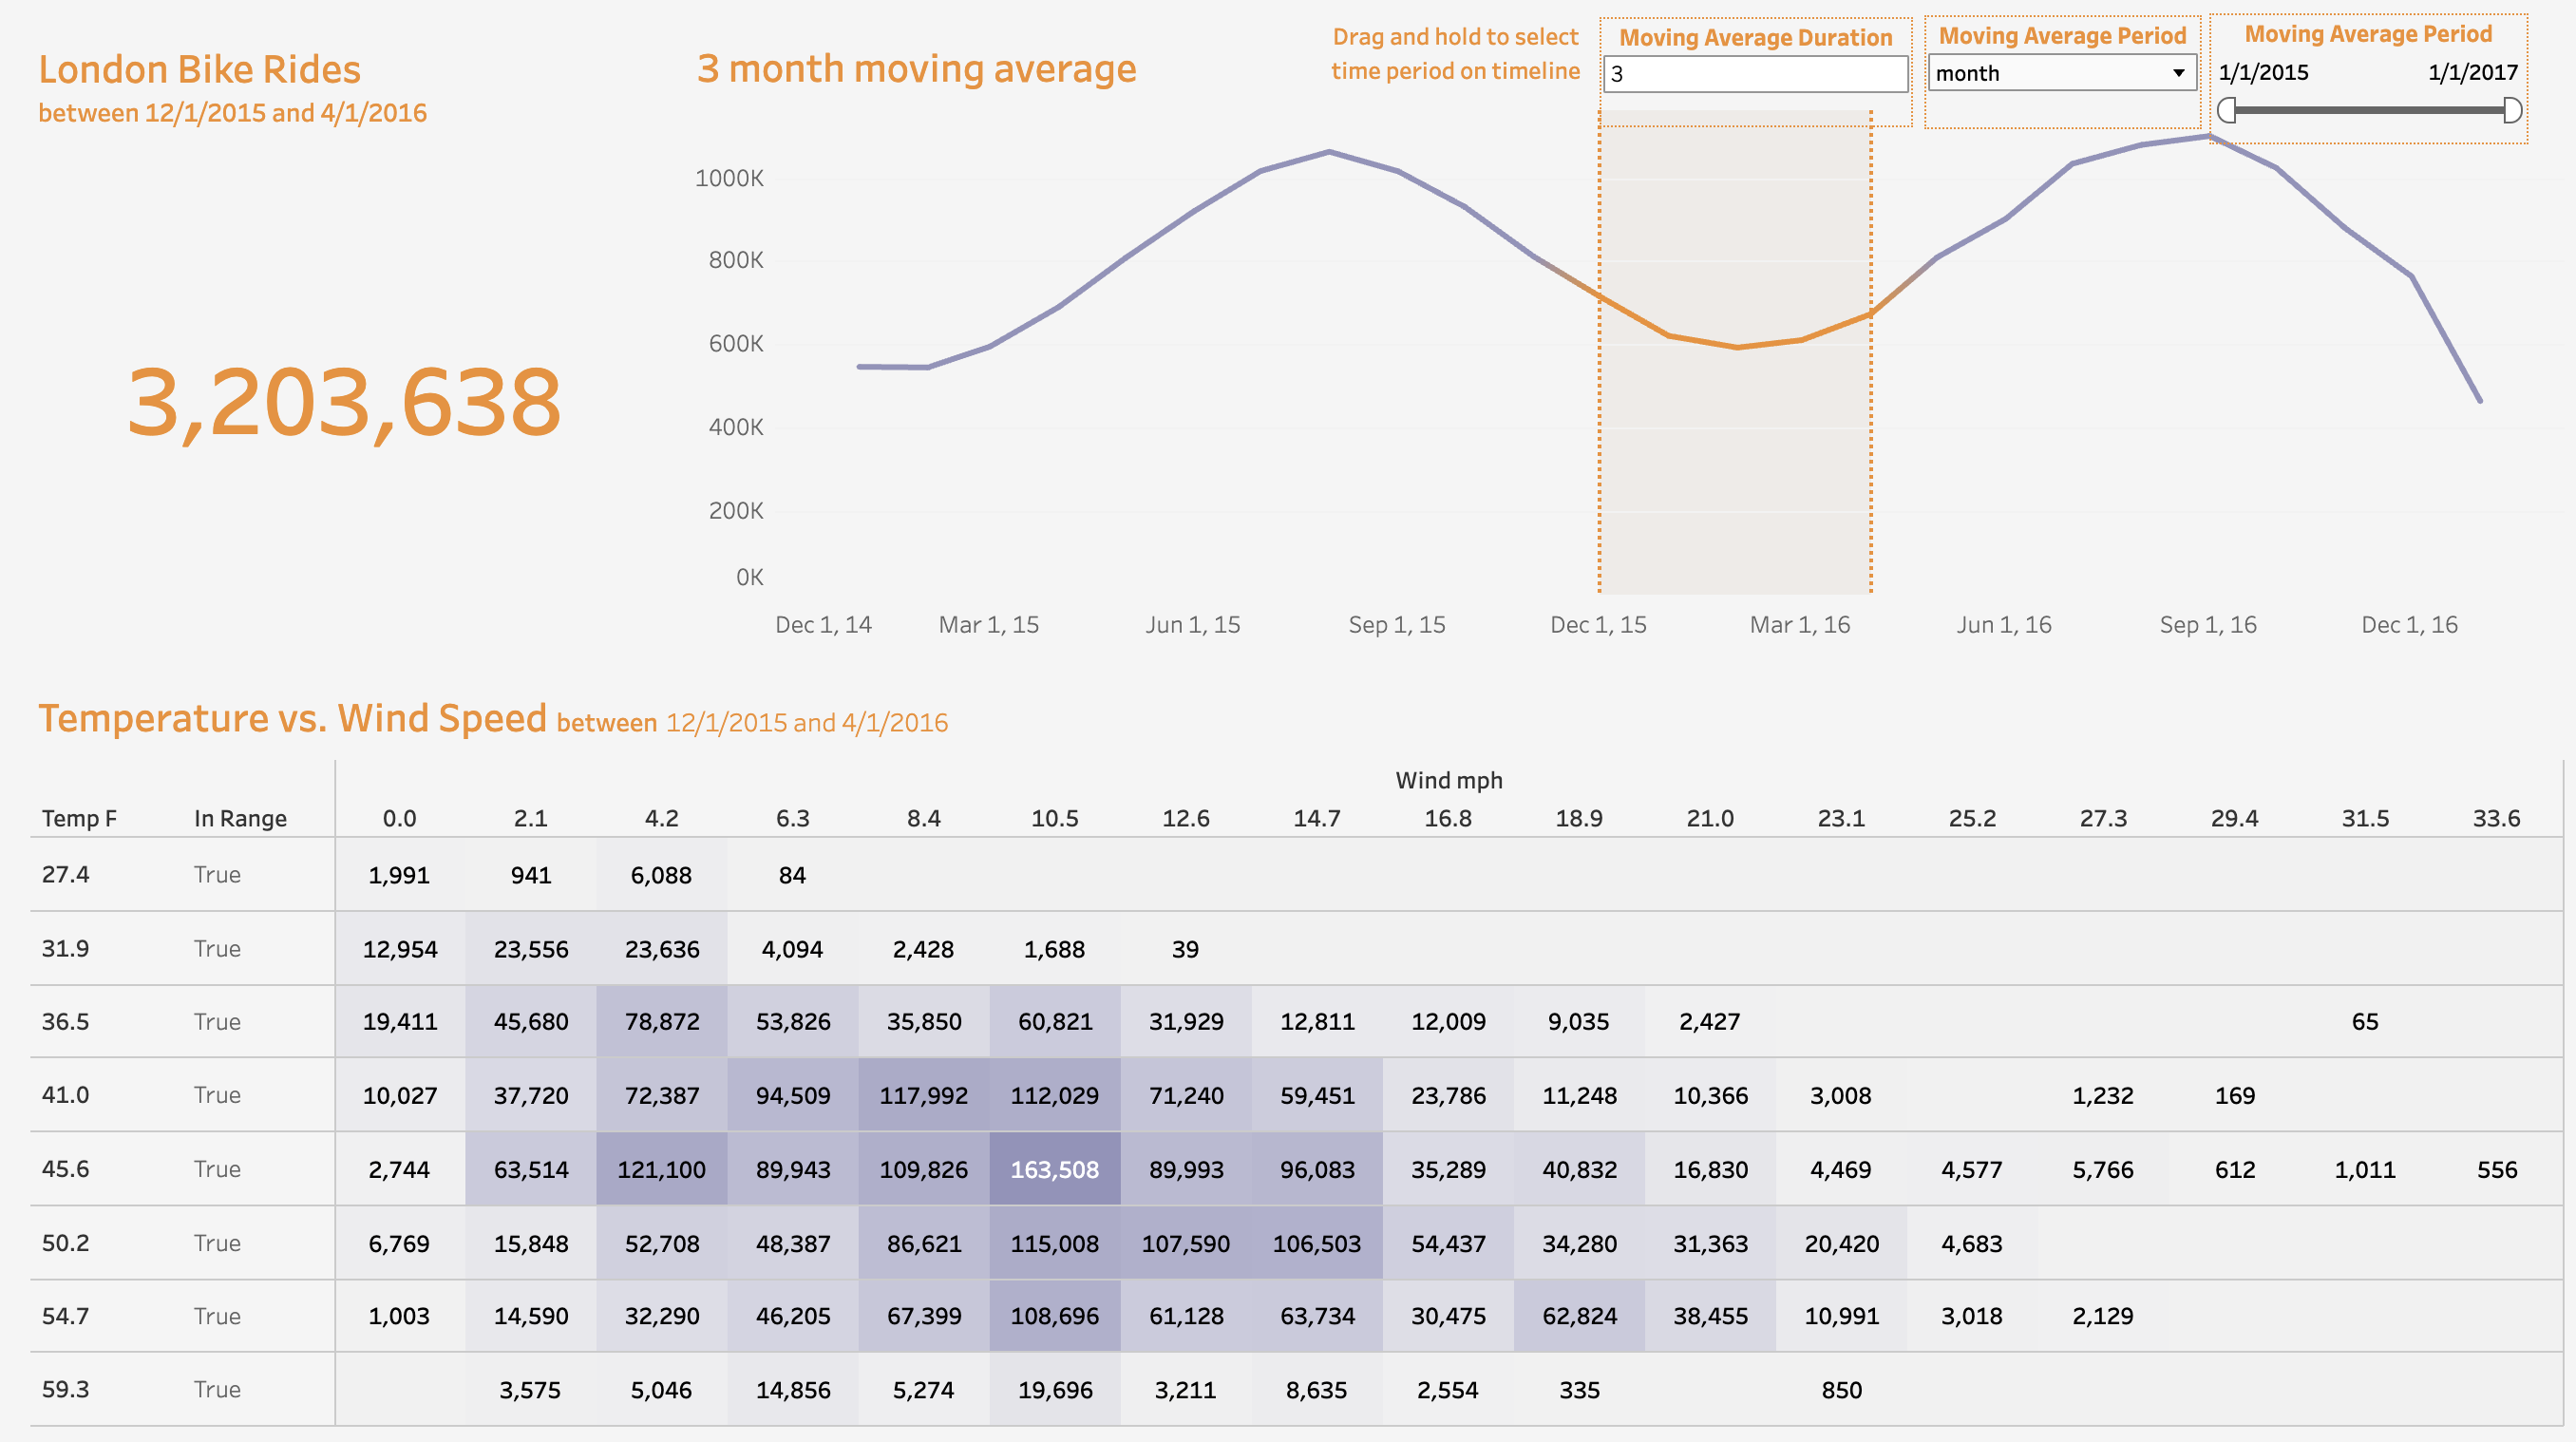

This screenshot's page, from the dashboard's own definition file:
{"tool":"tableau","page":{"name":"Dashboard 1","canvas":[1366,768],"ordinal":0},"visuals":[{"type":"worksheet","title":"Total Rides","mark":"Automatic","box":[8,8,347,342]},{"type":"worksheet","title":"Moving Average","mark":"Automatic","rows":["Calculation1"],"cols":["Calculation_1978135778309062910"],"box":[355,8,1003,342]},{"type":"filter","title":"Moving Average","param":"[federated.0avsaw60zhjwop0zj335o1ggv863].[none:Calculation_1978135778309062910:q","box":[1163,8,168,69]},{"type":"parameter","param":"[Parameters].[Parameter 1]","box":[1013,9,146,60]},{"type":"parameter","param":"[Parameters].[Parameter 2]","box":[842,10,165,58]},{"type":"text","box":[698,11,137,34]},{"type":"worksheet","title":"Heatmap","mark":"Square","rows":["temp real F (bin)","Calculation_1978135778314551555"],"cols":["Wind Speed Mph (bin)"],"box":[8,350,1350,410]}]}

Visuals, with their boxes in screenshot pixels (x1, y1, x2, y2), scaled from the page's 1366x768 canvas onto the 2576x1442 screenshot:
"Total Rides" worksheet: 15/15/670/657
"Moving Average" worksheet: 670/15/2561/657
"Moving Average" filter: 2193/15/2510/144
parameter: 1910/17/2186/129
parameter: 1588/19/1899/127
text: 1316/21/1575/85
"Heatmap" worksheet (Square marks): 15/657/2561/1427
